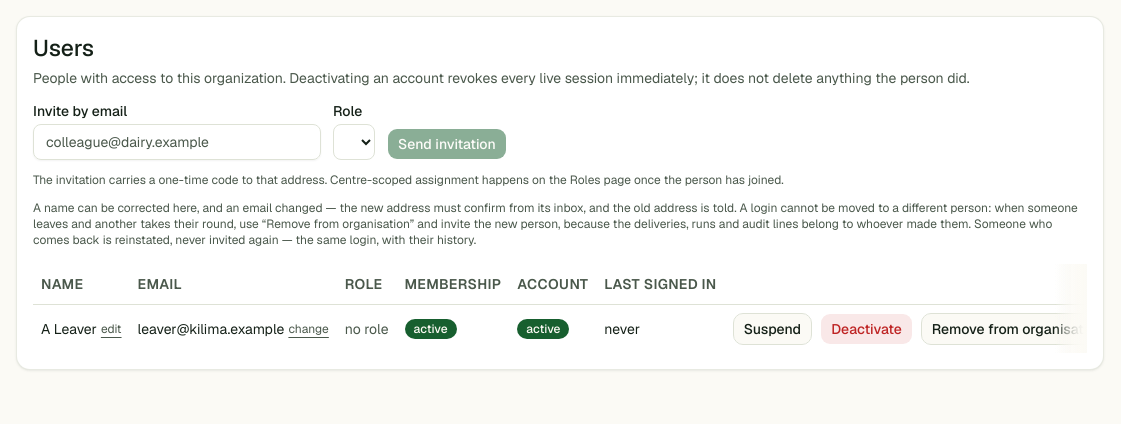
Test: users › deactivates a user and says plainly that sessions were revoked
The image size is (1121, 424).
Click the button "Deactivate" at (866, 329), box [820,313,913,345]
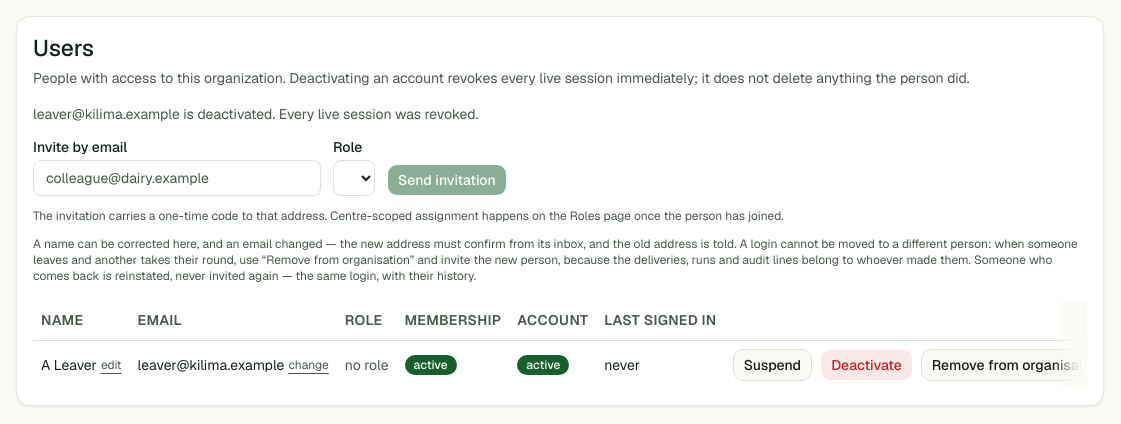
Now the message shows "Every live session was revoked", box [33,105,478,123]
